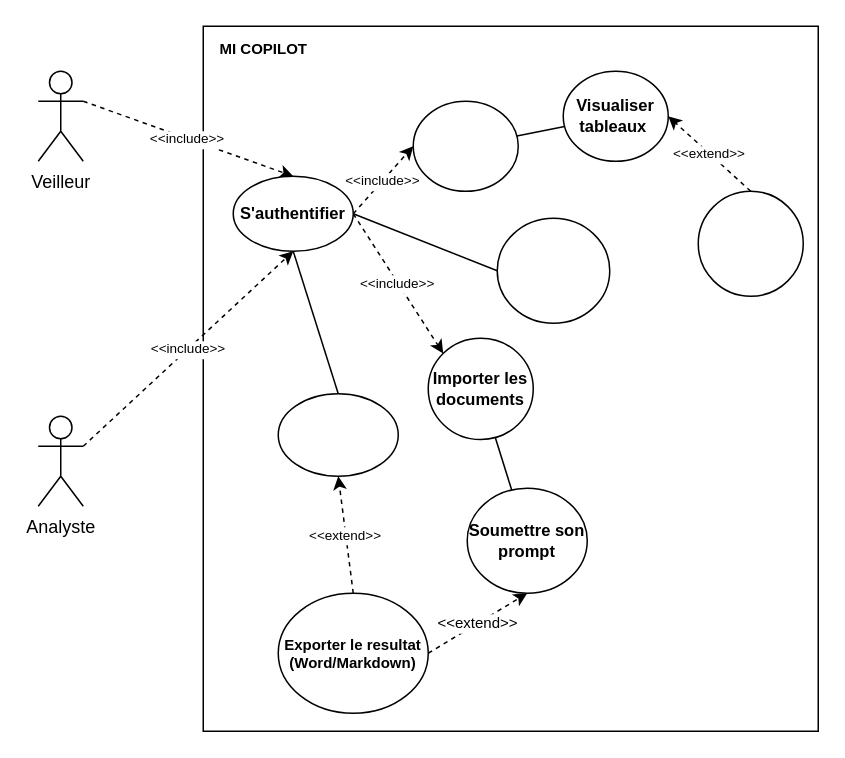
The diagram is 845 pixels wide and 758 high, and some of its shapes have lost their labels. Each missing label, with the centre of its shape:
"Consulter le Centre d'aide" belongs at (553,270).
"Saisir critères" belongs at (465,145).
"Soumettre sa requete Web" belongs at (337,434).
"Télécharger CSV/XLSX" belongs at (750,243).
